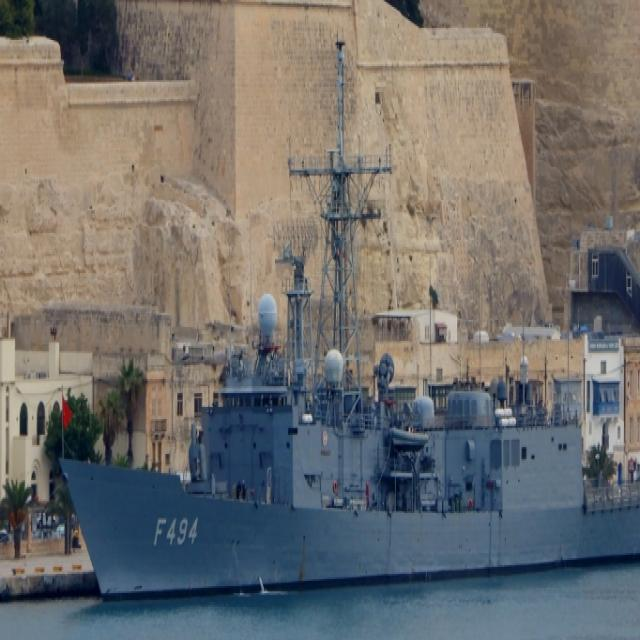Fragata: (53, 20, 640, 616)
